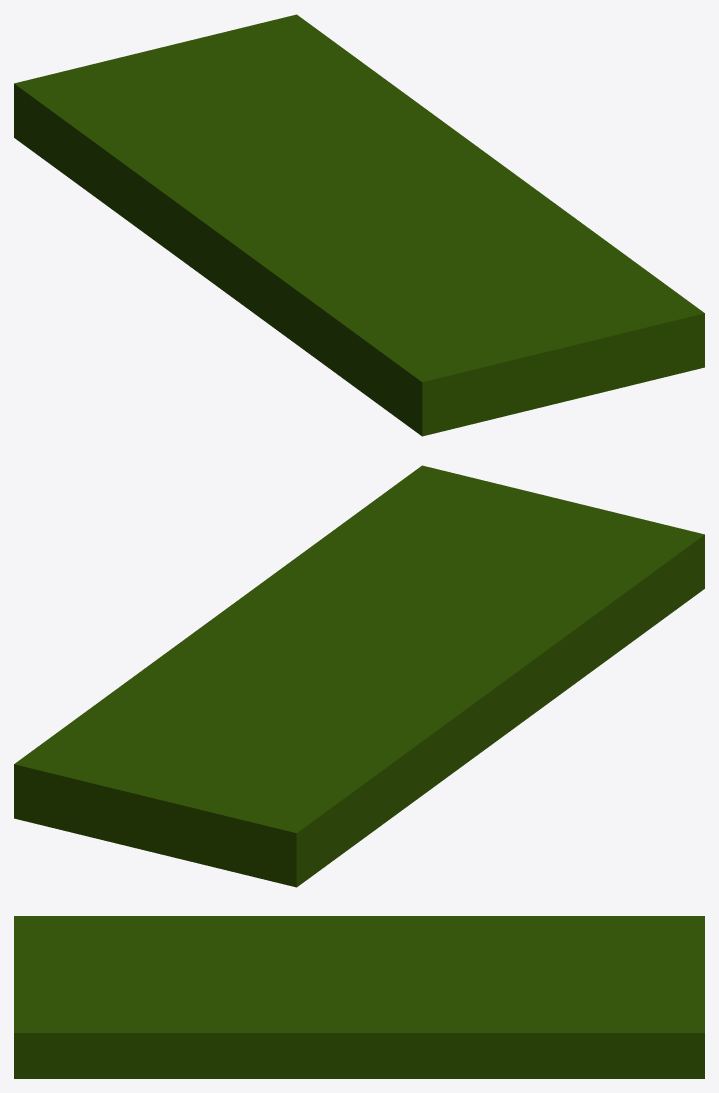
The model's file is ApocalypticPharmacy01_LampBroken.fbx.
The picture shows the model from 3 angles, top to bottom: view 1: azimuth 30°, elevation 25°; view 2: azimuth 150°, elevation 25°; view 3: azimuth 270°, elevation 25°; orthographic projection. The views are drawn at different scales.
Parts seen in each view (by area): view 1: ApocalypticPharmacy01_LampBroken; view 2: ApocalypticPharmacy01_LampBroken; view 3: ApocalypticPharmacy01_LampBroken.
Boxes of the visible parts, x1,y1,x2,y2 form: ApocalypticPharmacy01_LampBroken: (14, 14, 704, 436); ApocalypticPharmacy01_LampBroken: (14, 465, 704, 887); ApocalypticPharmacy01_LampBroken: (14, 916, 704, 1078).
Size of the model in its own units: 0.6 by 0.11 by 1.5.
